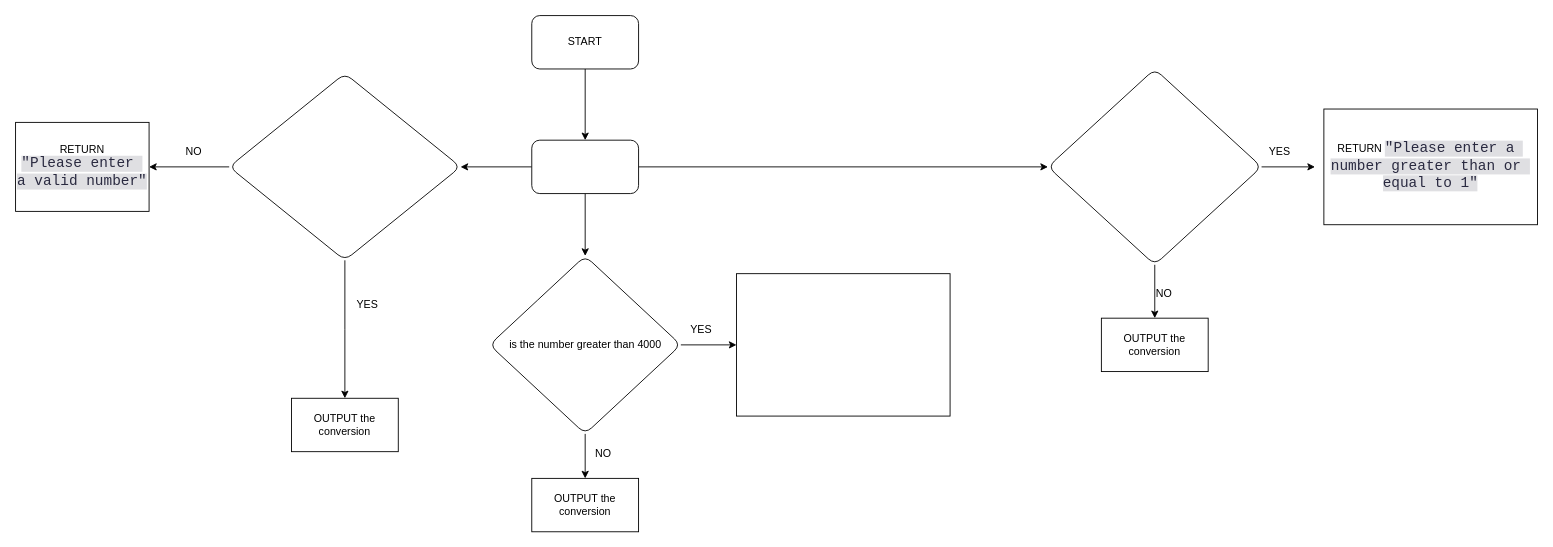
This 1553x547 diagram has some shape labels left out. The centre of each missing label's shape, as x and y in pixels:
are there negative numbers: point 1154,166
Get input from users: point 585,166
is there an input: point 344,166
RETURN "Please enter a number less than or equal to 3999": point 843,344
